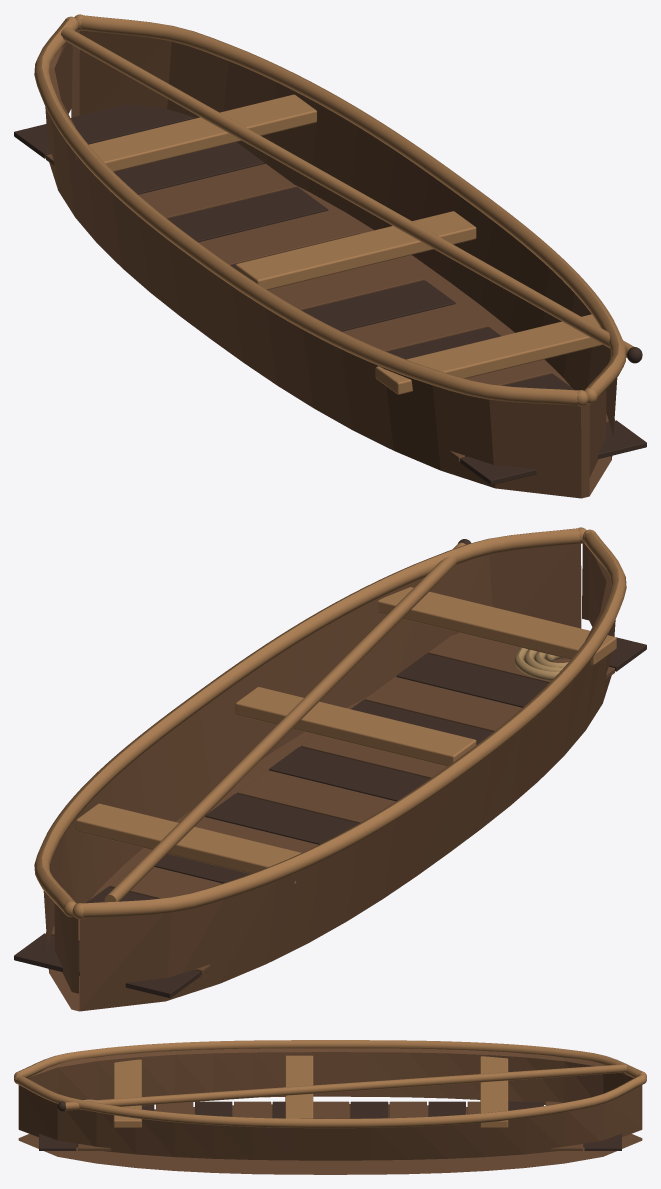
Rendered from detail_punt.glb.
3 renders of one model, top to bottom at view 1: azimuth 30°, elevation 25°; view 2: azimuth 150°, elevation 25°; view 3: azimuth 270°, elevation 25°, orthographic. The views are drawn at different scales.
Visible parts, largest first — view 1: wood; view 2: wood, cloth; view 3: wood.
Part boxes in pixels (x1,y1,x2,y2): wood: [14, 14, 646, 498]; wood: [14, 527, 646, 1011]; cloth: [514, 647, 569, 680]; wood: [14, 1040, 646, 1174].
Bounding box in the file's own units: 1.3 × 0.5 × 4.2.
